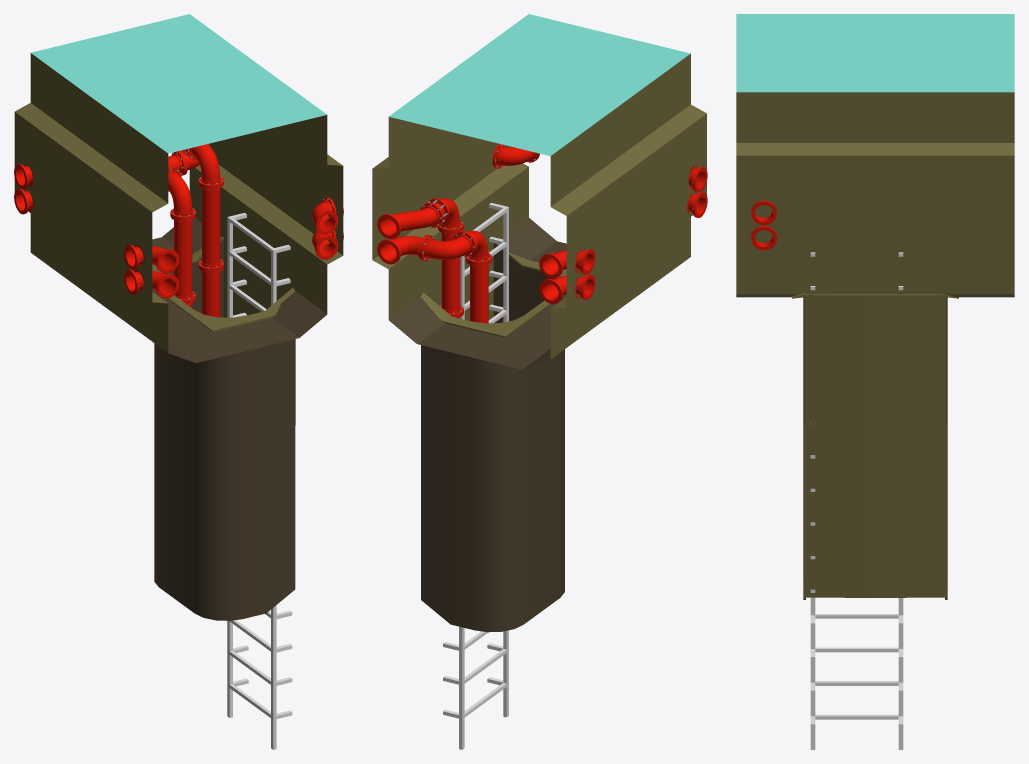
Rendered from Straight_Manhole_Down.fbx.
The picture shows the model from 3 angles, left to right: view 1: azimuth 30°, elevation 25°; view 2: azimuth 150°, elevation 25°; view 3: azimuth 270°, elevation 25°; orthographic projection.
Visible parts, largest first — view 1: Straight_Manhole_Down, Straight_.006, Cube, Pipe_200_Straight_2m.004, Pipe_200_Straight_2m.005, Straight_.007, Pipe_200_Corner.036, Pipe_200_Corner.037, Pipe_200_Corner.028, Pipe_200_Corner.029, Pipe_200_Straight_2m.006, Pipe_200_Corner.034 (+1 smaller); view 2: Straight_Manhole_Down, Straight_.006, Cube, Straight_.007, Pipe_200_Swerve_1m.004, Pipe_200_Straight_2m.004, Pipe_200_Corner.026, Pipe_200_Straight_2m.005, Pipe_200_Corner.033, Pipe_200_Corner.032, Pipe_200_Corner.025, Pipe_200_Corner.029 (+1 smaller); view 3: Straight_Manhole_Down, Straight_.006, Cube.
Part boxes in pixels (x1,y1,x2,y2): Straight_Manhole_Down: (14,14,343,363); Straight_.006: (154,239,295,620); Cube: (227,213,292,749); Pipe_200_Straight_2m.004: (198,183,223,270); Pipe_200_Straight_2m.005: (170,214,195,302); Straight_.007: (152,236,295,331); Pipe_200_Corner.036: (124,269,179,298); Pipe_200_Corner.037: (124,244,179,273); Pipe_200_Corner.028: (168,167,195,219); Pipe_200_Corner.029: (185,144,223,187); Pipe_200_Straight_2m.006: (198,266,223,317); Pipe_200_Corner.034: (312,201,343,234); Straight_Manhole_Down: (372,14,706,369); Straight_.006: (421,243,564,632); Cube: (443,203,508,749); Straight_.007: (420,243,566,337); Pipe_200_Swerve_1m.004: (377,202,443,238); Pipe_200_Straight_2m.004: (437,227,463,316); Pipe_200_Corner.026: (420,231,476,261); Pipe_200_Straight_2m.005: (466,259,492,323); Pipe_200_Corner.033: (539,249,595,278); Pipe_200_Corner.032: (539,274,595,303); Pipe_200_Corner.025: (377,234,428,264); Pipe_200_Corner.029: (427,198,463,231); Straight_Manhole_Down: (736,14,1014,297); Straight_.006: (803,294,947,599); Cube: (810,252,903,749).
Size of the model in its own units: 2.6 by 7.9 by 3.
